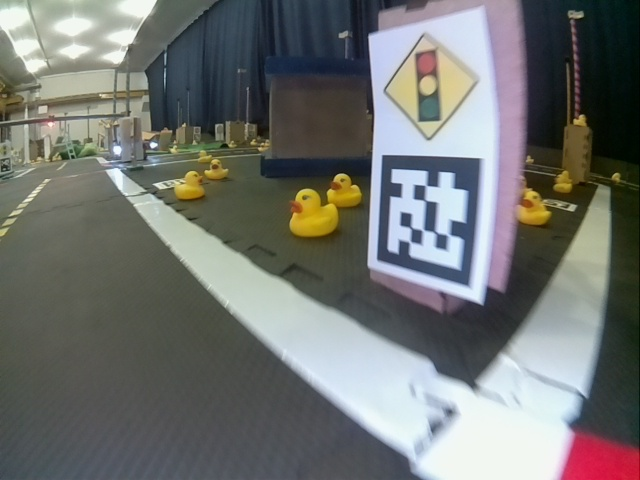Duckie: (288, 188, 336, 238), (516, 191, 549, 224), (329, 174, 361, 205), (175, 172, 202, 201), (204, 158, 226, 180), (553, 176, 573, 194)
QR code: (376, 154, 485, 282), (544, 197, 576, 212), (153, 177, 188, 190)
Signal sign: (377, 32, 482, 140)
